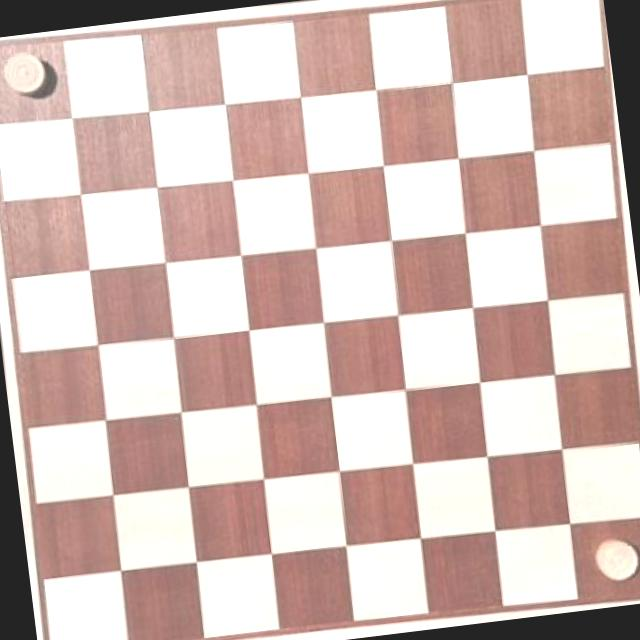BOARD: (0, 0, 640, 640)
white: (0, 45, 51, 99), (590, 532, 640, 586)
